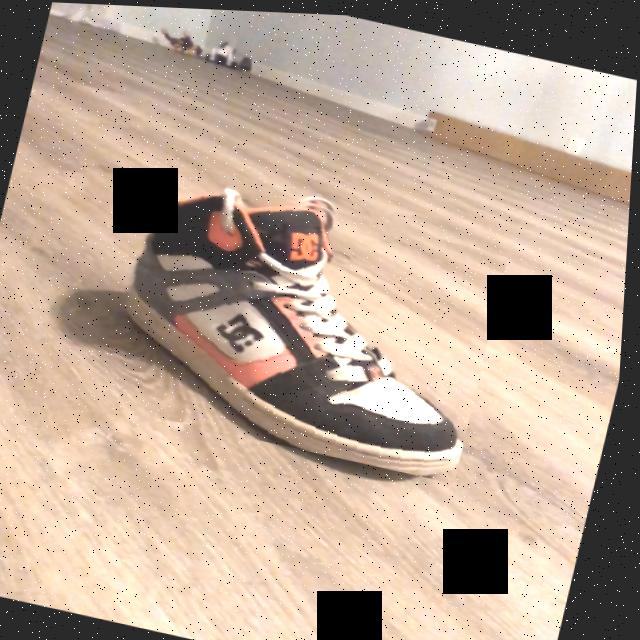shoe: (127, 186, 468, 474)
